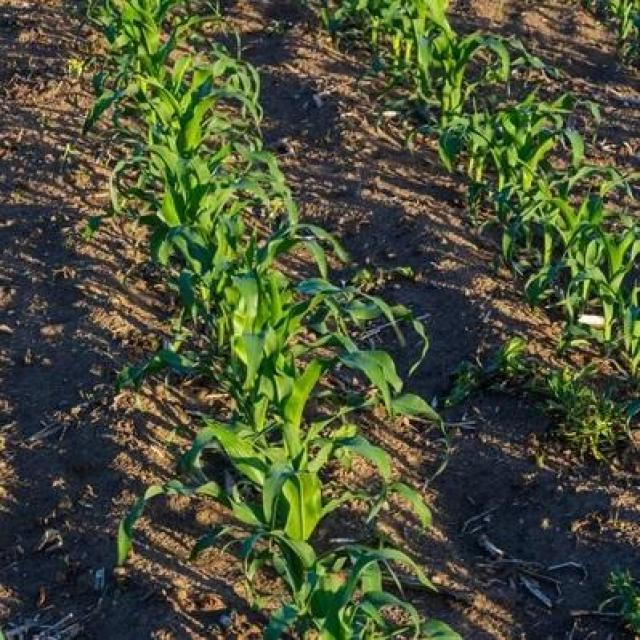row: (177, 0, 640, 640), (445, 1, 640, 241)
